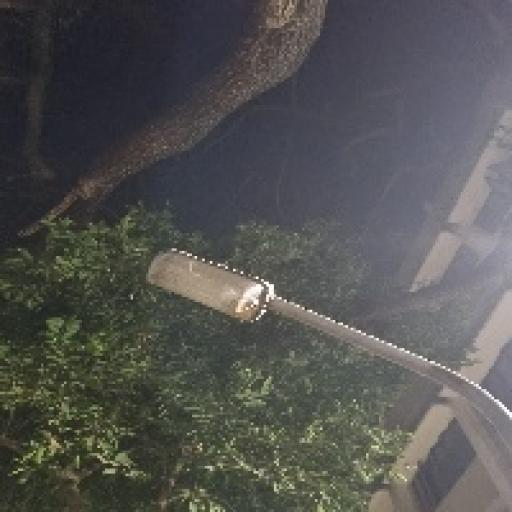Not Working: (122, 231, 296, 336)
